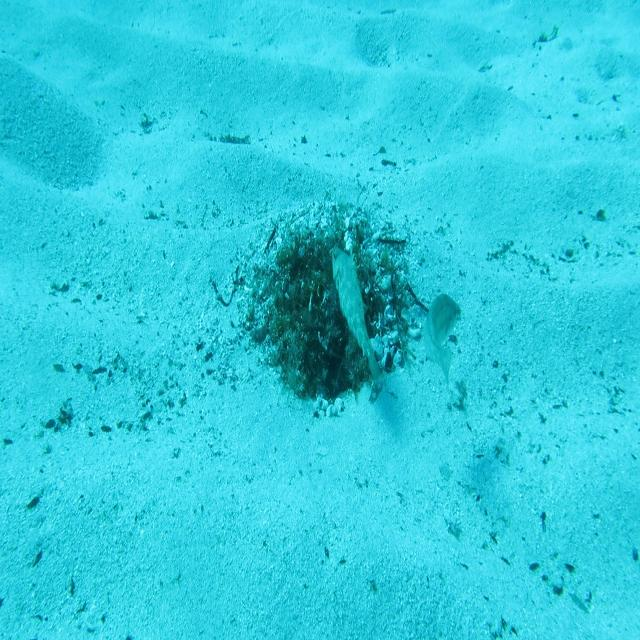BK_SW: (329, 239, 386, 395)
core_nest: (303, 235, 368, 285)
female: (422, 291, 462, 394)
nest: (223, 189, 437, 431)
